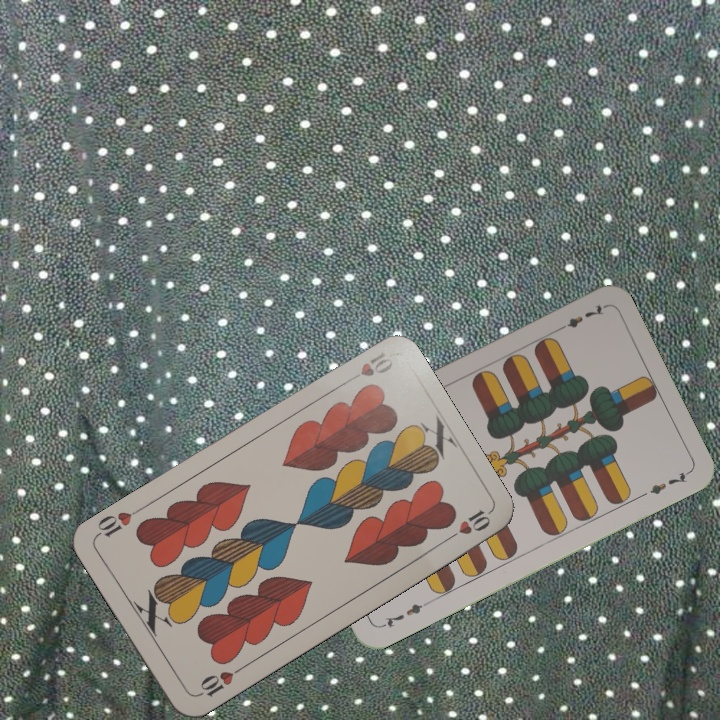E7: (376, 597, 431, 631), (552, 301, 608, 334)
H10: (340, 347, 396, 387), (192, 662, 246, 700)
